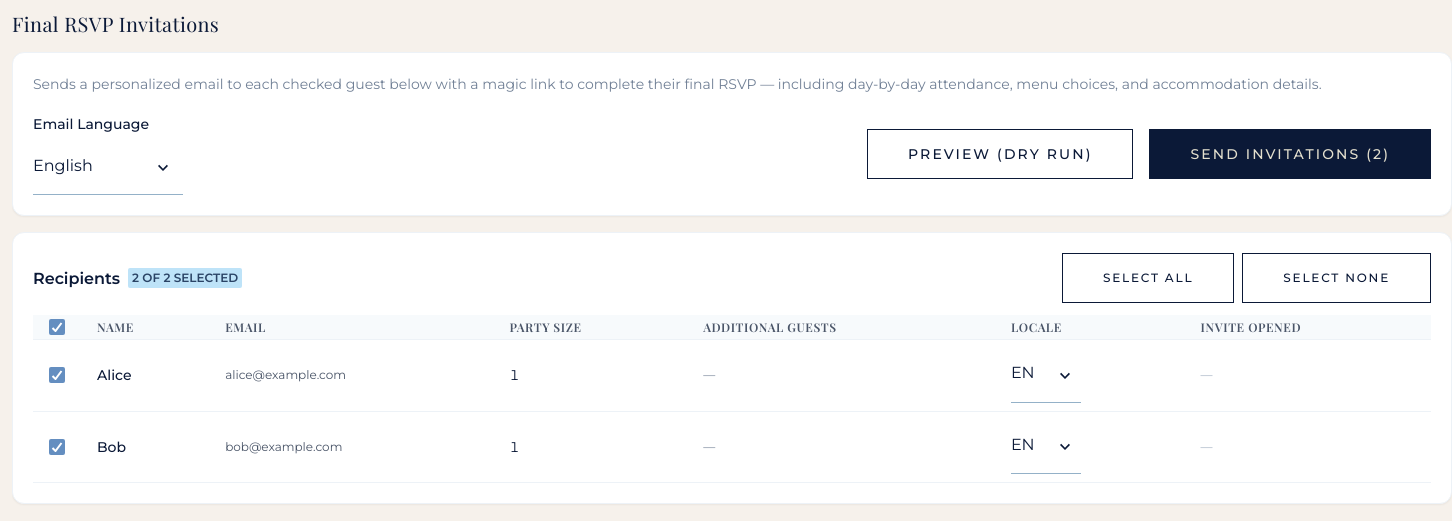
Test: FinalRsvpInvitationsPanel — recipient checkbox selection › unchecking a recipient row excludes them from the send count
The image size is (1452, 521).
Click the checkbox in the row of "alice@example.com" at {"x": 57, "y": 376}, box [49, 368, 65, 384]
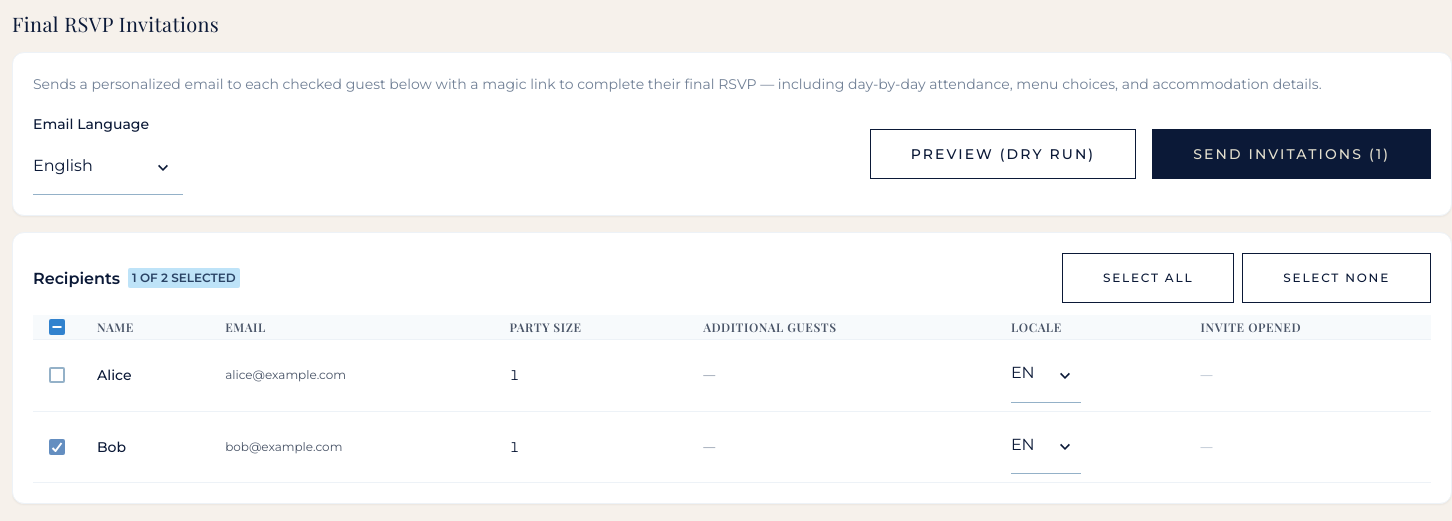
Now the text "1 of 2 selected" is shown, box [128, 268, 240, 288]
Now the button "Send Invitations (1)" is shown, box [1152, 129, 1431, 179]
